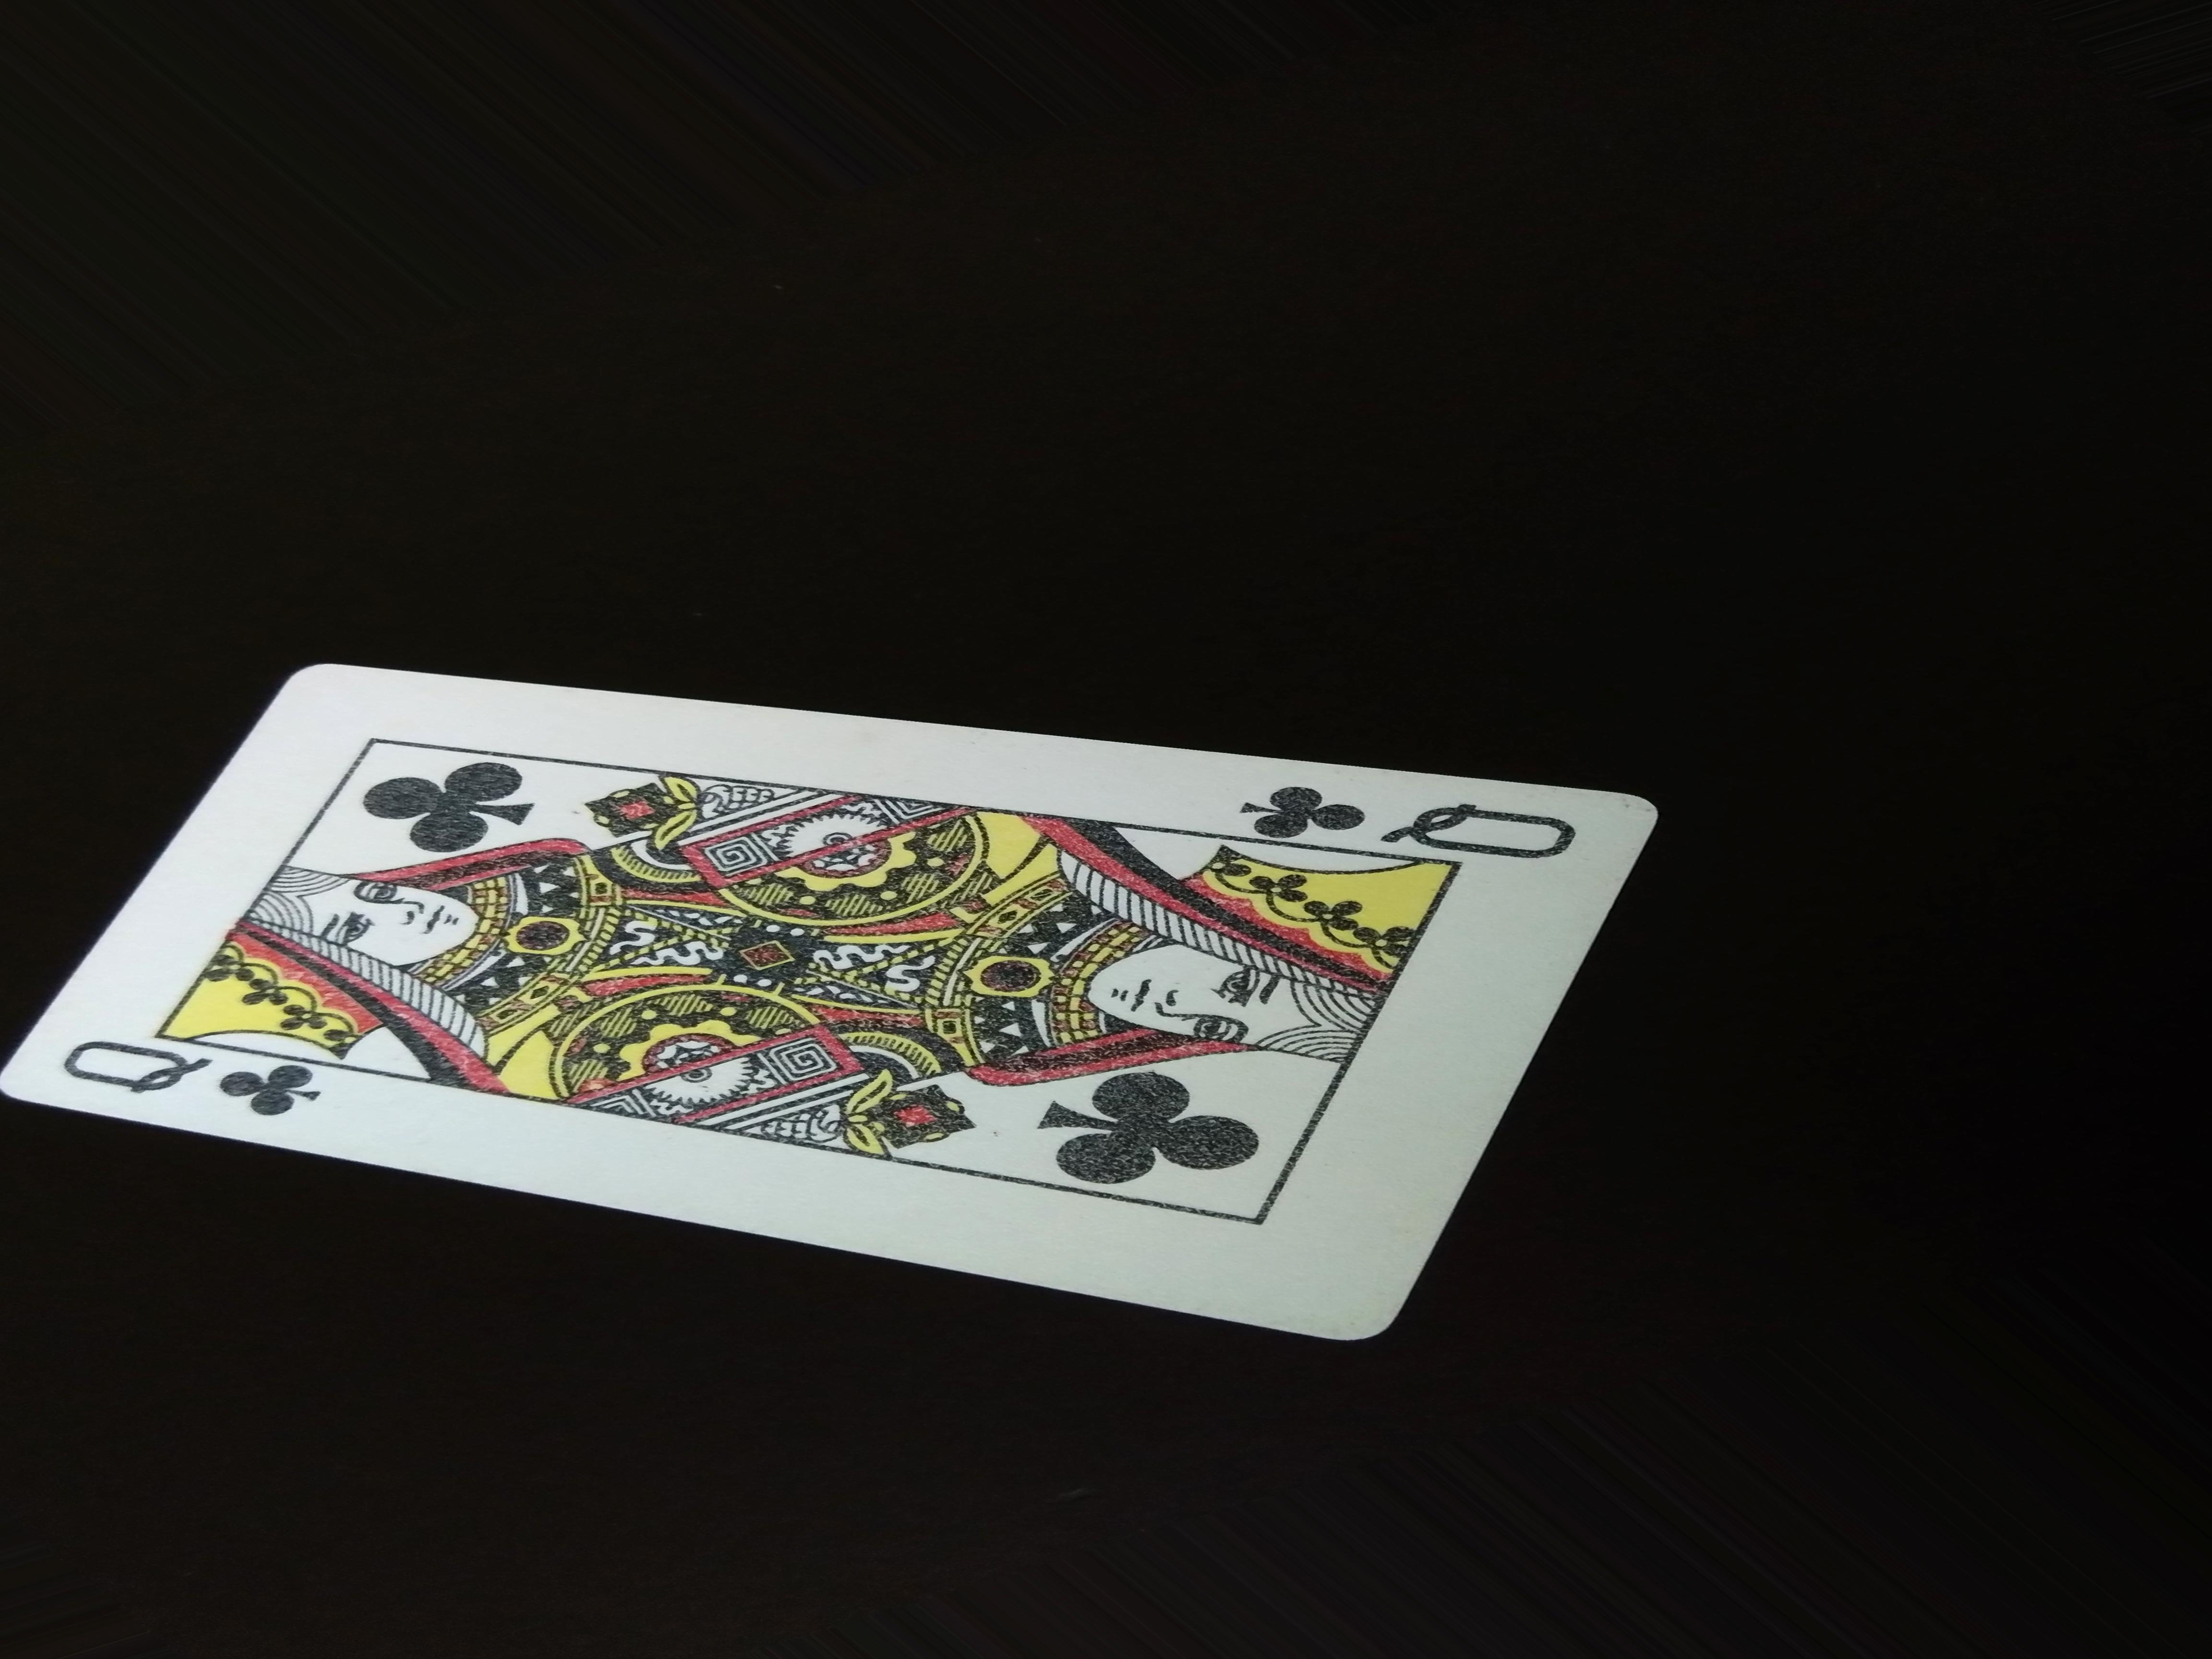QC: (1186, 767, 1587, 868)
